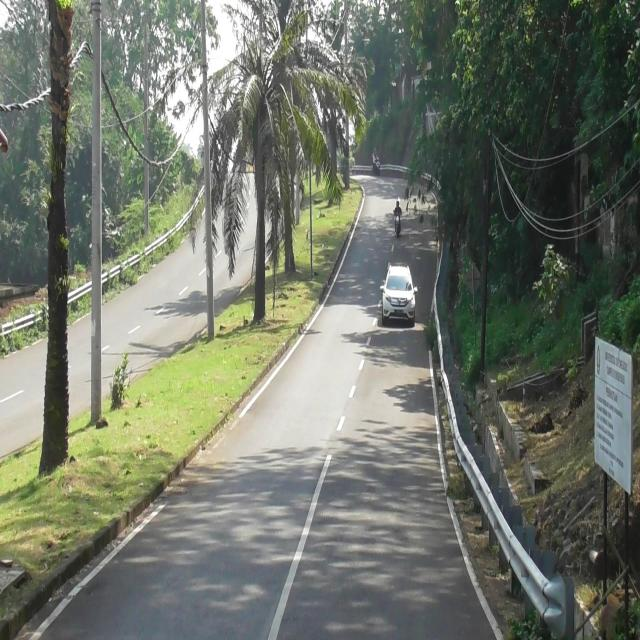motorcycle: (395, 215, 401, 238), (375, 159, 380, 176)
person: (394, 200, 402, 215), (372, 147, 377, 163), (374, 152, 379, 162)
rider_region: (394, 201, 402, 238), (372, 146, 381, 177)
